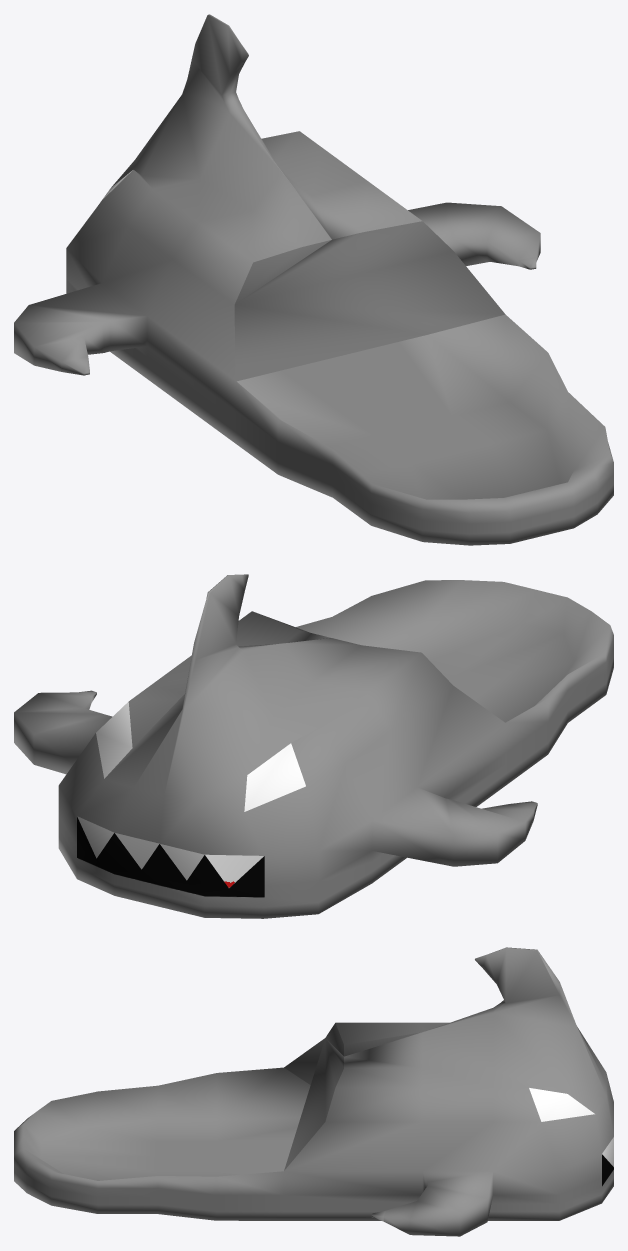
The model's file is Shark_slippers.fbx.
The picture shows the model from 3 angles, top to bottom: view 1: azimuth 30°, elevation 25°; view 2: azimuth 150°, elevation 25°; view 3: azimuth 270°, elevation 25°; orthographic projection. The views are drawn at different scales.
Parts seen in each view (by area): view 1: Cube; view 2: Cube; view 3: Cube.
Part boxes in pixels (x1=…): Cube: x1=14, y1=14, x2=613, y2=545; Cube: x1=14, y1=574, x2=613, y2=918; Cube: x1=14, y1=947, x2=613, y2=1236.
Bounding box in the file's own units: 3.67 × 1.99 × 4.89.
